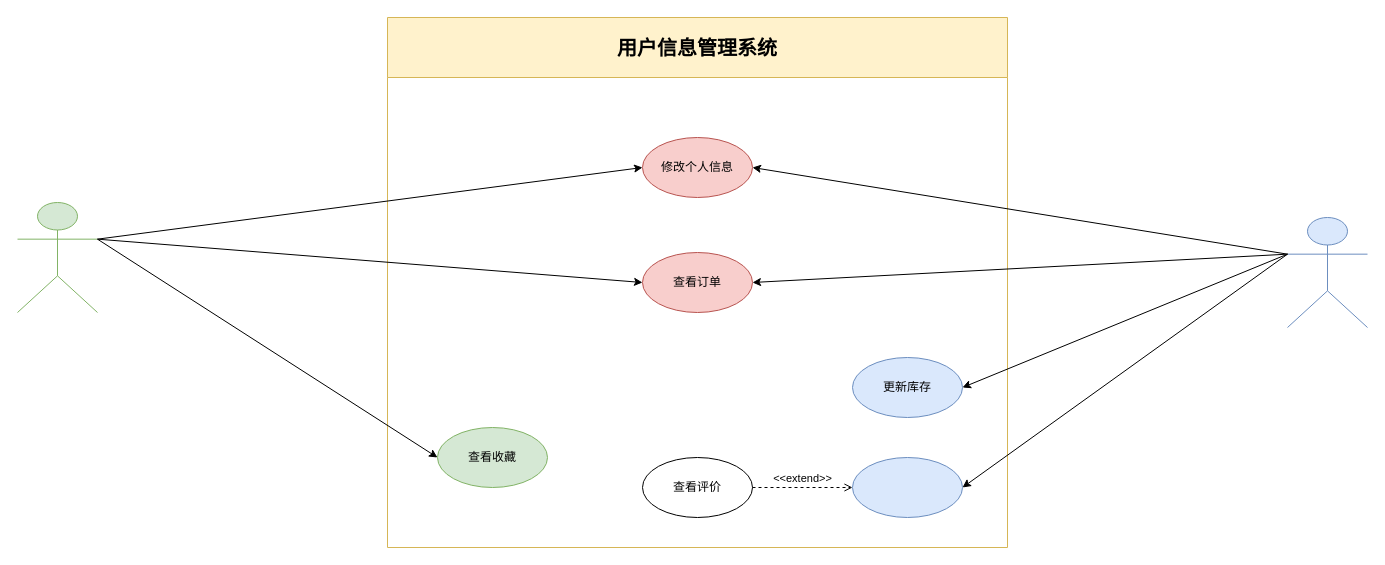
Image size: 1385x565. Some labels were removed from this diagram. Here are the shapes that lost their labels. From the top down, the box of each, then its label:
(16, 202, 98, 312): 买家
(1286, 216, 1368, 328): 商家
(852, 456, 962, 518): 查看上架乐器
